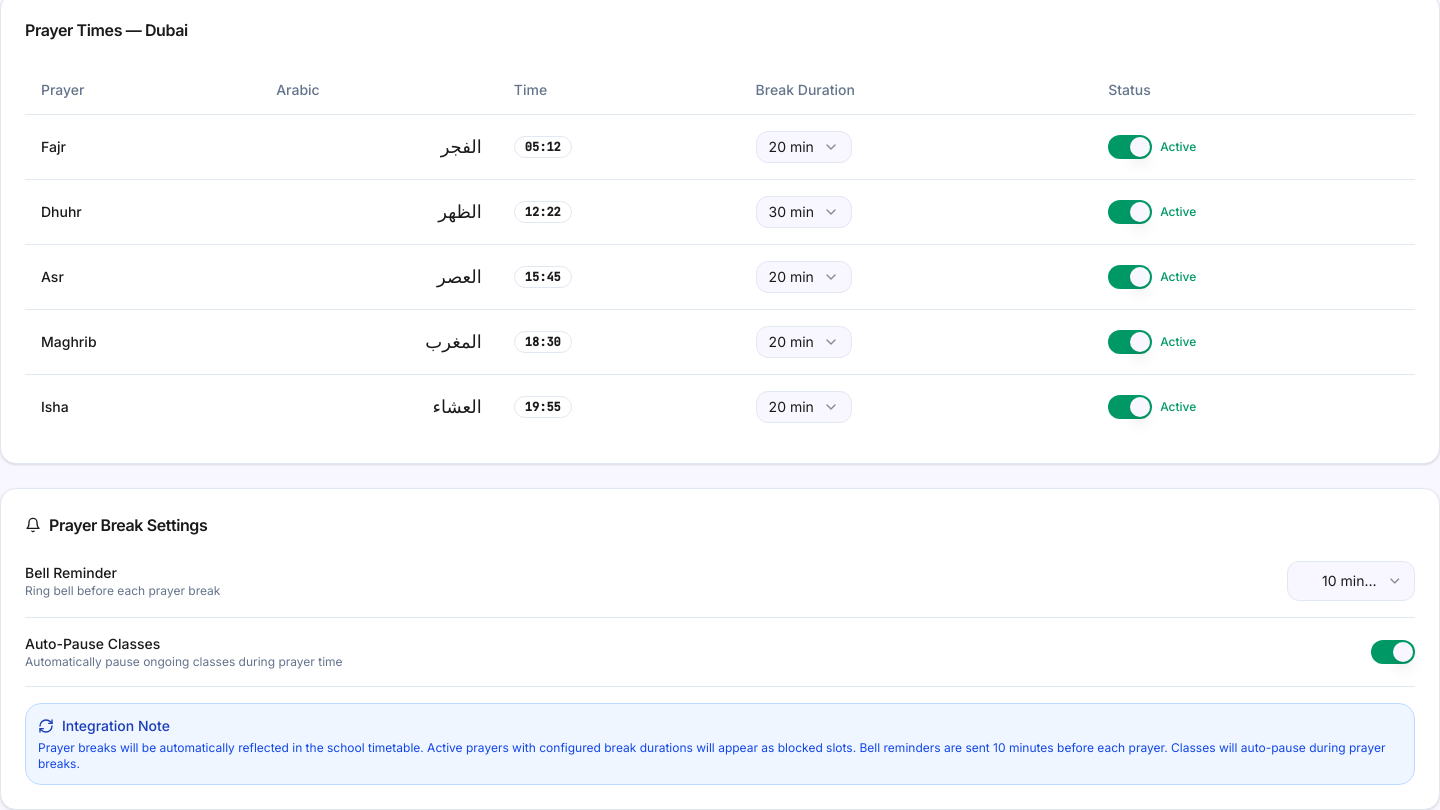
Test case: PrayerScheduler › flips the integration note to 'will not auto-pause' when Auto-Pause Classes is toggled off
(page scrolled)
Click the switch in the row of "Auto-Pause Classes" at (1393, 652), box 1371,640 -> 1415,664
(page scrolled)
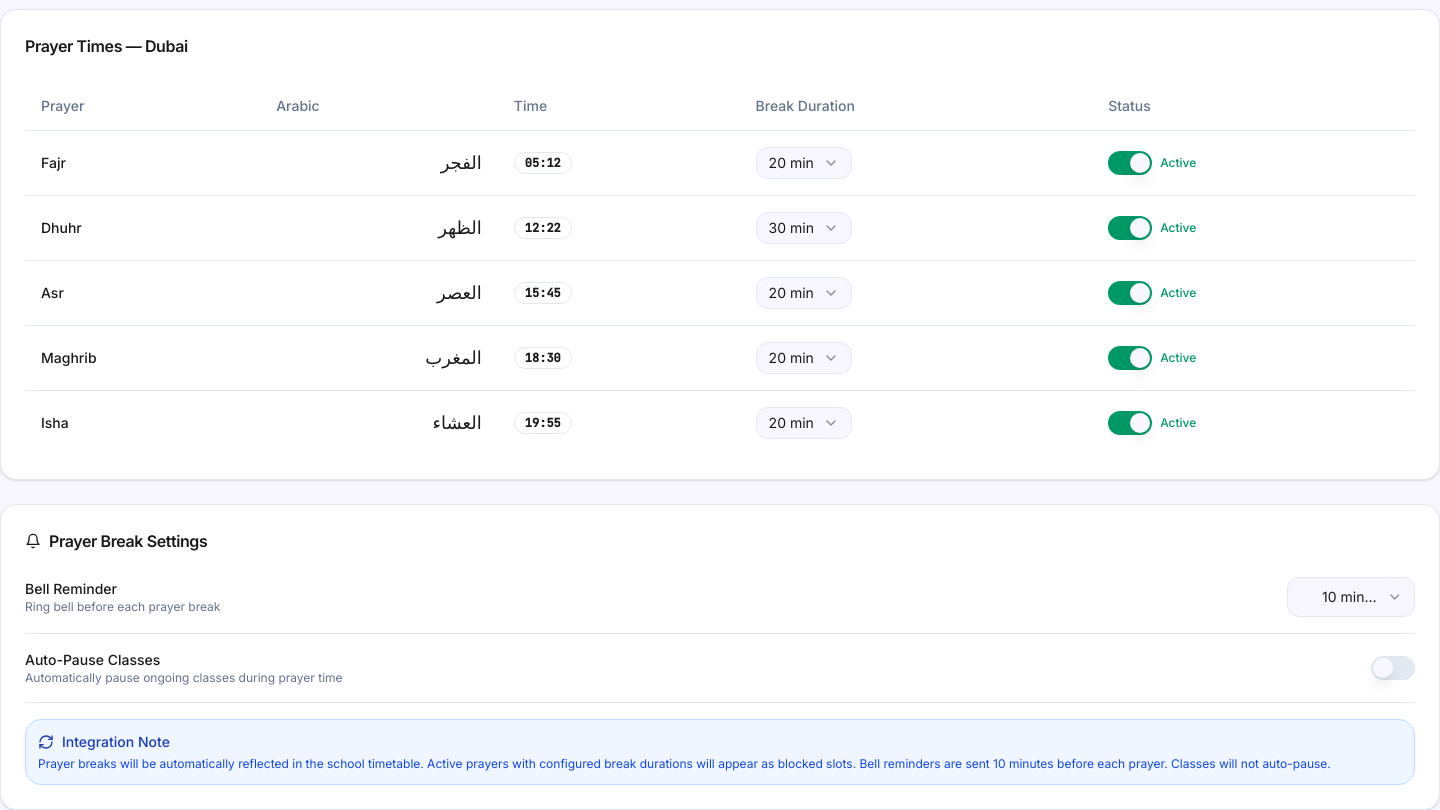
Expected: the text "Classes will not auto-pause." is shown, 1171,756 -> 1331,770
